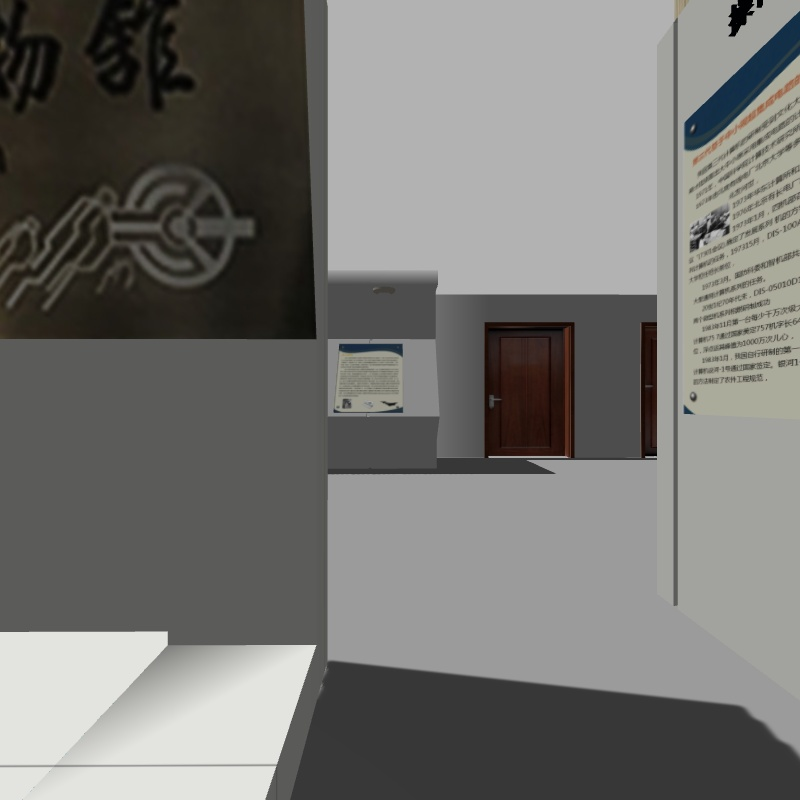handle: (484, 387, 507, 413)
